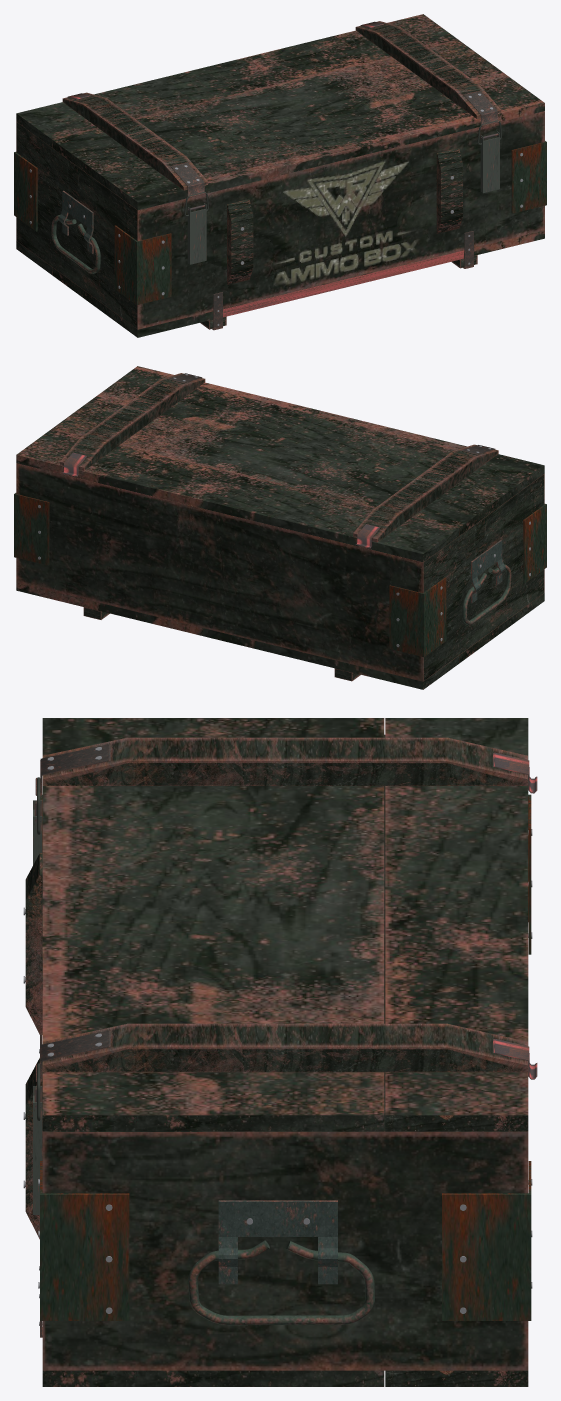
Rendered from military_box.obj.
3 views of the same model, one above another, from view 1: azimuth 30°, elevation 25°; view 2: azimuth 150°, elevation 25°; view 3: azimuth 270°, elevation 25° (orthographic). The views are drawn at different scales.
Visible parts, largest first — view 1: defaultMaterial.081, defaultMaterial.080, defaultMaterial.071, defaultMaterial.060, defaultMaterial.077, defaultMaterial.074, defaultMaterial.066, defaultMaterial.064, defaultMaterial.055, defaultMaterial.006, defaultMaterial.068, defaultMaterial.063 (+6 smaller); view 2: defaultMaterial.081, defaultMaterial.080, defaultMaterial.071, defaultMaterial.077, defaultMaterial.060, defaultMaterial.065, defaultMaterial.063, defaultMaterial.062, defaultMaterial.074, defaultMaterial.073, defaultMaterial.066, defaultMaterial.072; view 3: defaultMaterial.080, defaultMaterial.081, defaultMaterial.071, defaultMaterial.060, defaultMaterial.077, defaultMaterial.062, defaultMaterial.064, defaultMaterial.005, defaultMaterial.066, defaultMaterial.004, defaultMaterial.068, defaultMaterial.065 (+4 smaller).
Boxes of the visible parts, box(x1,y1,x2,y2) form: defaultMaterial.081: box(16, 111, 544, 329); defaultMaterial.080: box(52, 40, 544, 210); defaultMaterial.071: box(16, 14, 458, 147); defaultMaterial.060: box(355, 21, 501, 118); defaultMaterial.077: box(62, 92, 207, 190); defaultMaterial.074: box(114, 225, 171, 304); defaultMaterial.066: box(52, 230, 544, 337); defaultMaterial.064: box(511, 141, 546, 213); defaultMaterial.055: box(436, 148, 462, 233); defaultMaterial.006: box(223, 250, 463, 317); defaultMaterial.068: box(227, 199, 253, 284); defaultMaterial.063: box(14, 152, 37, 231); defaultMaterial.081: box(16, 463, 544, 681); defaultMaterial.080: box(52, 366, 544, 535); defaultMaterial.071: box(16, 429, 458, 562); defaultMaterial.077: box(353, 444, 498, 542); defaultMaterial.060: box(60, 373, 205, 470); defaultMaterial.065: box(16, 582, 458, 689); defaultMaterial.063: box(389, 577, 446, 657); defaultMaterial.062: box(14, 493, 49, 565); defaultMaterial.074: box(523, 504, 546, 583); defaultMaterial.073: box(471, 540, 505, 603); defaultMaterial.066: box(459, 593, 544, 663); defaultMaterial.072: box(462, 564, 511, 625); defaultMaterial.080: box(42, 718, 384, 1131); defaultMaterial.081: box(42, 734, 528, 1370); defaultMaterial.071: box(385, 718, 528, 1131); defaultMaterial.060: box(42, 1023, 527, 1072); defaultMaterial.077: box(42, 737, 527, 785); defaultMaterial.062: box(442, 1161, 531, 1320); defaultMaterial.064: box(40, 1161, 129, 1320); defaultMaterial.005: box(218, 1200, 337, 1284); defaultMaterial.066: box(42, 1370, 384, 1386); defaultMaterial.004: box(188, 1240, 374, 1325); defaultMaterial.068: box(25, 853, 42, 1034); defaultMaterial.065: box(385, 1370, 528, 1386).
Bounding box in the file's own units: 2 × 0.729 × 1.06.
14 materials, 14 textured.
